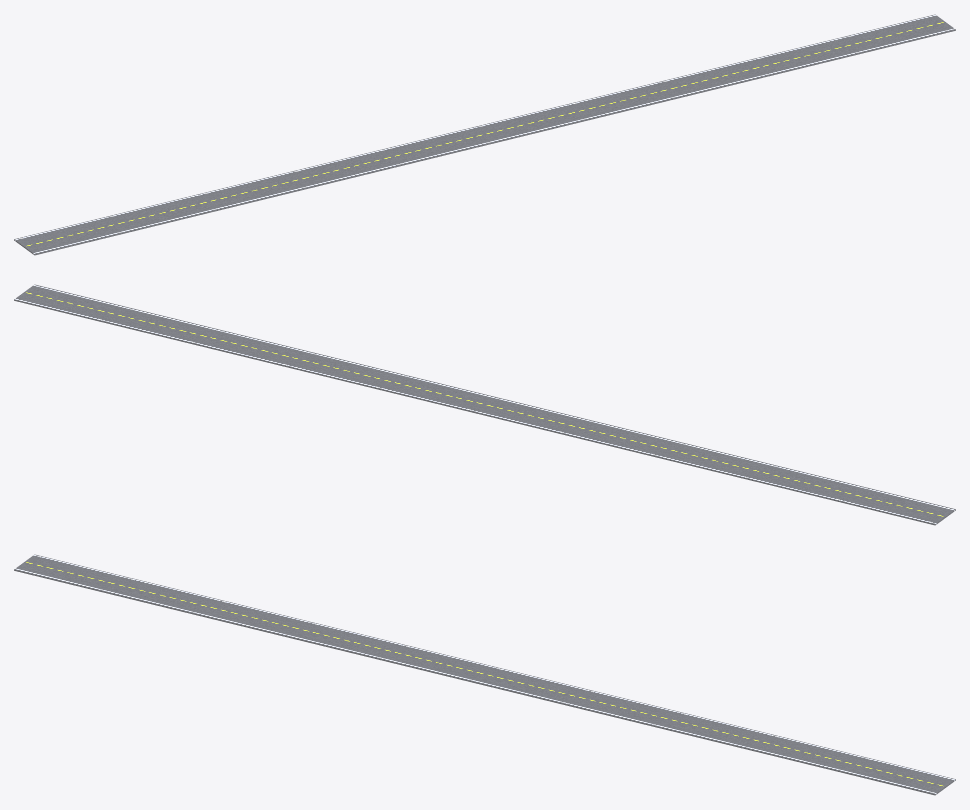
File: road1.d88117e3.glb
3 views of the same model, one above another, from view 1: azimuth 30°, elevation 25°; view 2: azimuth 150°, elevation 25°; view 3: azimuth 330°, elevation 25° (orthographic).
Parts seen in each view (by area): view 1: road_3.5X9.0_3_; view 2: road_3.5X9.0_3_; view 3: road_3.5X9.0_3_.
Part boxes in pixels (<box>): road_3.5X9.0_3_: <box>14,14,955,255</box>; road_3.5X9.0_3_: <box>14,284,955,525</box>; road_3.5X9.0_3_: <box>14,554,955,795</box>.
Bounding box in the file's own units: 19.25 × 0.0228 × 0.7485.
1 material, 1 textured.
